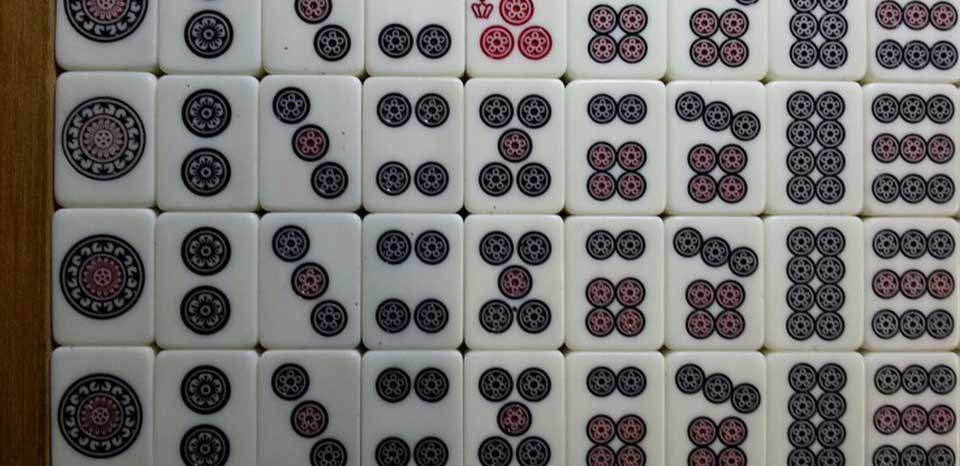pin_1: (54, 210, 156, 344)
pin_2: (154, 74, 256, 213)
pin_3: (261, 212, 363, 347)
pin_4: (363, 79, 472, 212)
pin_5: (463, 215, 568, 349)
pin_6: (570, 79, 668, 219)
pin_7: (663, 219, 766, 349)
pin_8: (772, 78, 863, 217)
pin_9: (865, 217, 960, 353)
